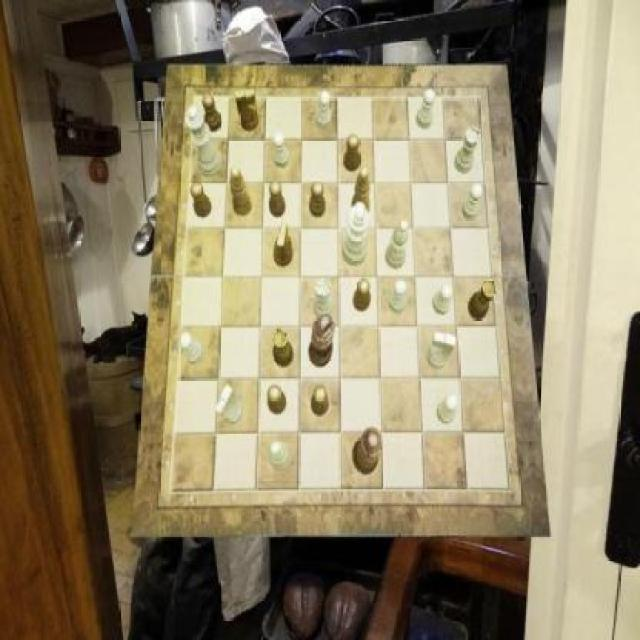bishop: (231, 166, 254, 217), (352, 166, 370, 219)
black-bishop: (308, 314, 334, 368)
black-king: (236, 88, 260, 132), (274, 221, 294, 267)
black-knight: (190, 182, 212, 218), (203, 94, 223, 132), (344, 134, 362, 171), (269, 180, 286, 218), (309, 182, 326, 218), (354, 278, 371, 312), (268, 386, 287, 416), (311, 384, 328, 416)
black-pawn: (352, 428, 383, 475)
black-queen: (468, 277, 497, 319), (274, 328, 294, 368)
black-rook: (384, 220, 408, 269), (270, 440, 292, 472)
white-bishop: (343, 202, 371, 266)
white-king: (215, 384, 243, 424), (429, 331, 457, 368)
white-knight: (417, 89, 437, 129), (178, 332, 202, 365), (463, 183, 483, 221), (432, 285, 453, 317), (437, 394, 459, 424), (389, 278, 407, 312), (274, 132, 291, 168), (317, 91, 332, 131)
white-pawn: (186, 105, 222, 177)
white-queen: (455, 128, 480, 174), (314, 280, 334, 320)
